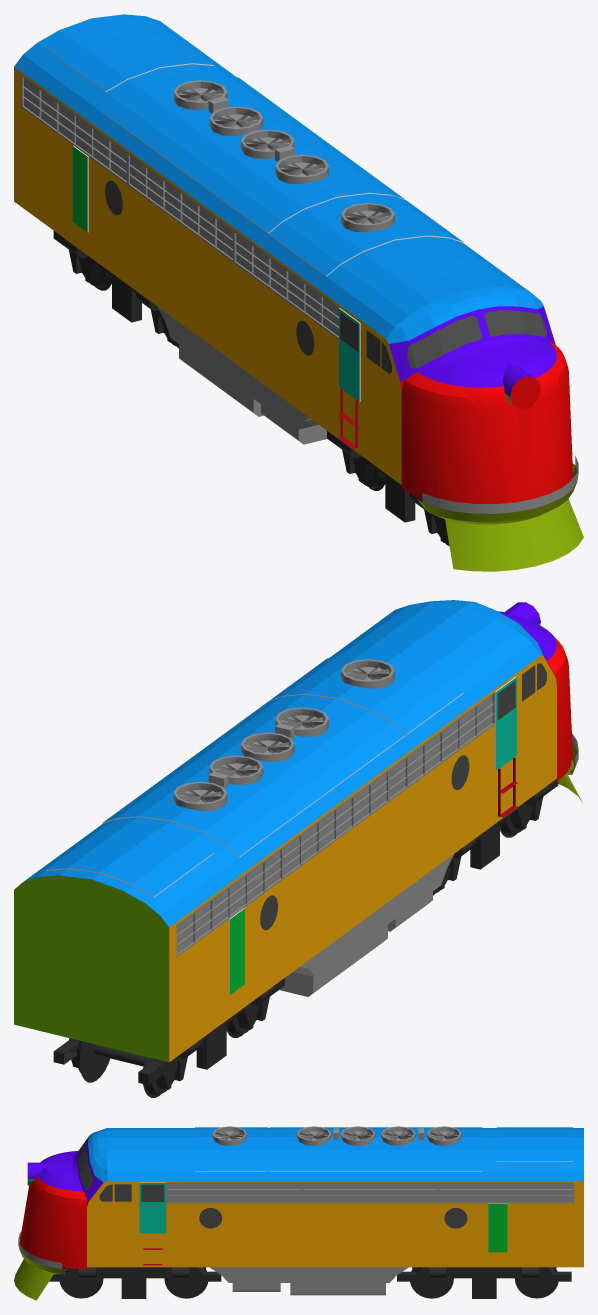
The picture shows the model from 3 angles, top to bottom: view 1: azimuth 30°, elevation 25°; view 2: azimuth 150°, elevation 25°; view 3: azimuth 270°, elevation 25°; orthographic projection. The views are drawn at different scales.
Visible parts, largest first — view 1: body_half2, body_half1, side_grid6, side_grid4, side_grid5, fan4, fan2, fan1, bogie_mechanism_half4, bogie_mechanism_half5, fan5, fan3 (+2 smaller); view 2: body_half2, body_half1, side_grid4, side_grid6, side_grid5, bogie_mechanism_half5, fan1, fan5, fan3, bogie_mechanism_half6, bogie_mechanism_half3, wheel_half6 (+3 smaller); view 3: body_half1, body_half2, side_grid1, side_grid2, side_grid3, bogie_mechanism_half7, bogie_mechanism_half2, bogie_mechanism_half8, bogie_mechanism_half1, fan2, fan1, fan4 (+6 smaller).
Boxes of the visible parts, x1,y1,x2,y2 form: body_half2: (14,18,535,571); body_half1: (92,14,583,565); side_grid6: (21,75,127,184); side_grid4: (127,153,233,262); side_grid5: (233,230,339,339); fan4: (209,106,263,135); fan2: (275,154,328,184); fan1: (341,203,394,232); bogie_mechanism_half4: (327,431,395,515); bogie_mechanism_half5: (53,231,121,314); fan5: (173,80,227,109); fan3: (241,129,294,158); body_half2: (91,602,582,1062); body_half1: (14,600,525,1043); side_grid4: (282,769,388,879); side_grid6: (176,847,282,956); side_grid5: (389,692,494,801); bogie_mechanism_half5: (138,1028,216,1089); fan1: (341,659,394,688); fan5: (173,781,227,811); fan3: (241,732,294,761); bogie_mechanism_half6: (217,978,284,1062); bogie_mechanism_half3: (490,779,558,861); wheel_half6: (76,1041,126,1082); body_half1: (14,1130,583,1300); body_half2: (14,1127,583,1279); side_grid1: (302,1182,438,1203); side_grid2: (166,1182,302,1203); side_grid3: (438,1182,574,1203); bogie_mechanism_half7: (484,1267,571,1298); bogie_mechanism_half2: (134,1267,221,1298); bogie_mechanism_half8: (397,1267,484,1298); bogie_mechanism_half1: (49,1267,133,1298); fan2: (296,1126,331,1145); fan1: (212,1126,246,1145); fan4: (381,1126,415,1145).
Size of the model in its own units: 3.2 by 4.55 by 14.87.
